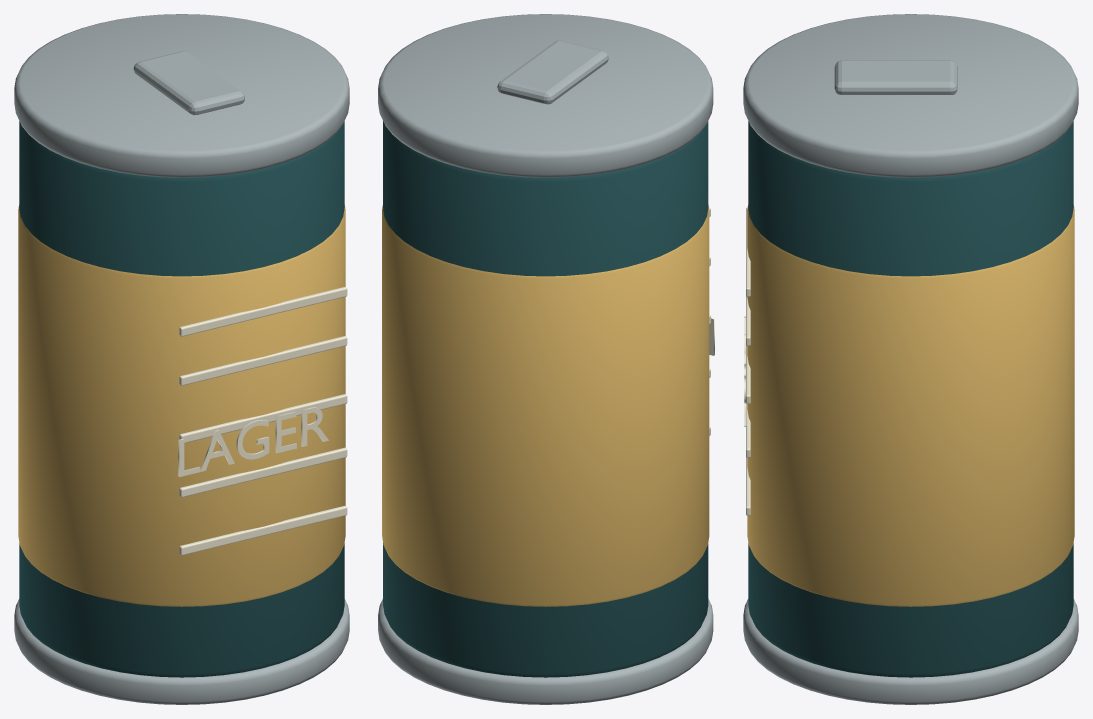
File: beer_can.glb
The picture shows the model from 3 angles, left to right: view 1: azimuth 30°, elevation 25°; view 2: azimuth 150°, elevation 25°; view 3: azimuth 270°, elevation 25°; orthographic projection.
Parts seen in each view (by area): view 1: Beer label.004, Deep teal enamel.003, Brushed stainless.003, Warm porcelain.003; view 2: Beer label.004, Deep teal enamel.003, Brushed stainless.003; view 3: Beer label.004, Deep teal enamel.003, Brushed stainless.003, Warm porcelain.003.
Part boxes in pixels (x1,y1,x2,y2): Beer label.004: (18, 205, 345, 606); Deep teal enamel.003: (19, 121, 344, 677); Brushed stainless.003: (14, 14, 349, 704); Warm porcelain.003: (178, 287, 347, 555); Beer label.004: (382, 204, 709, 606); Deep teal enamel.003: (383, 121, 708, 677); Brushed stainless.003: (378, 14, 713, 704); Beer label.004: (747, 205, 1074, 606); Deep teal enamel.003: (748, 121, 1073, 677); Brushed stainless.003: (743, 14, 1078, 704); Warm porcelain.003: (744, 207, 750, 515).
Bounding box in the file's own units: 0.068 × 0.1265 × 0.068.
